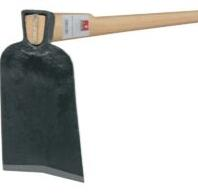HOUE: (0, 3, 198, 194)
